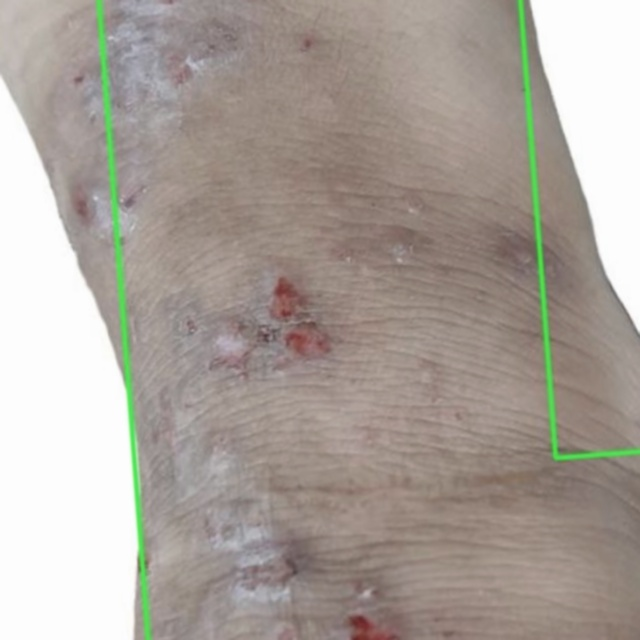Eczema: (0, 0, 148, 639), (520, 0, 639, 458)
